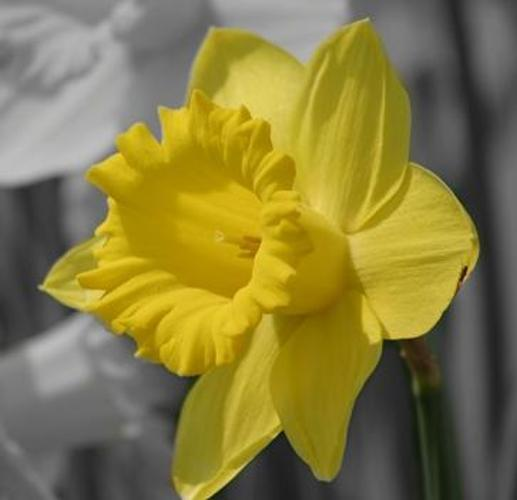flower1: (34, 14, 480, 499)
